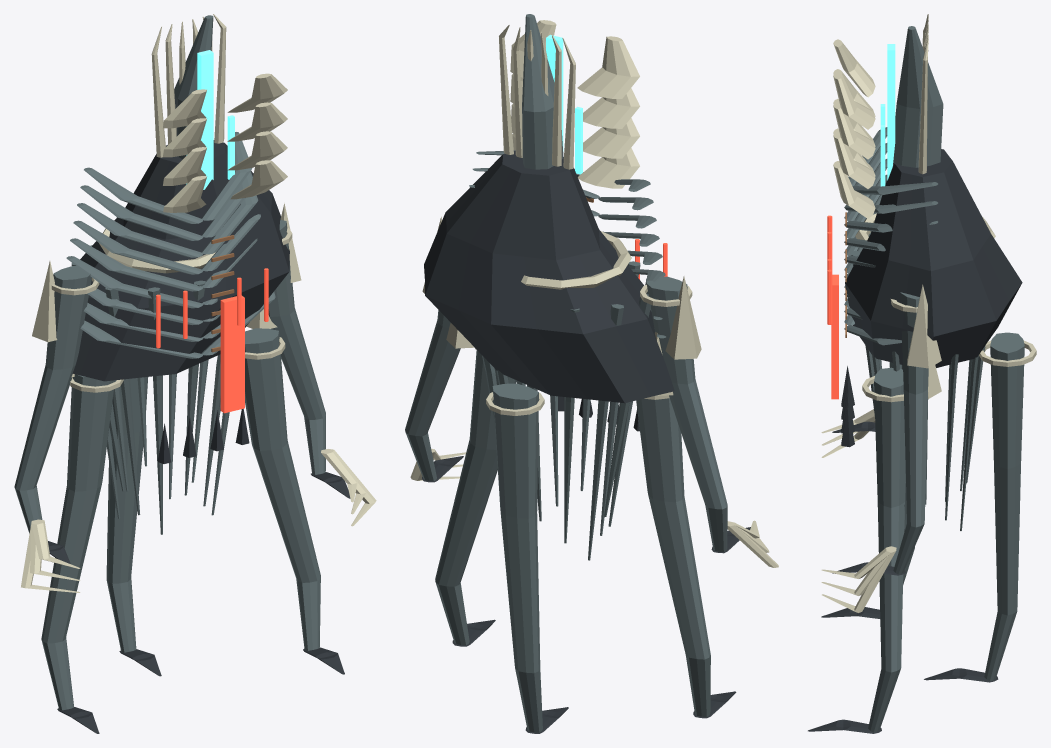
The model's file is unseam.fbx.
3 renders of one model, left to right at view 1: azimuth 30°, elevation 25°; view 2: azimuth 150°, elevation 25°; view 3: azimuth 270°, elevation 25°, orthographic. The views are drawn at different scales.
Visible parts, largest first — view 1: oblique_mantle, leg_1_skin, leg_0_skin, arm_0_skin, leg_2_skin, arm_1_skin, HP_unseam_core, aperture, head_keel, mantle_rib_4_-1, mantle_rib_5_-1, mantle_rib_7_-1 (+32 smaller); view 2: oblique_mantle, leg_2_skin, leg_0_skin, leg_1_skin, arm_0_skin, head_keel, arm_1_skin, face_shutter_-1_3, HP_unseam_shard_0, HP_unseam_collar, face_shutter_-1_1, face_shutter_-1_2 (+13 smaller); view 3: oblique_mantle, leg_2_skin, leg_1_skin, arm_1_skin, head_keel, HP_unseam_shard_1, aperture, face_shutter_1_3, HP_unseam_core, face_shutter_1_1, face_shutter_1_0, face_shutter_1_2 (+17 smaller).
Part boxes in pixels (bbox=[...]): oblique_mantle: bbox=[72, 140, 289, 381]; leg_1_skin: bbox=[245, 328, 320, 650]; leg_0_skin: bbox=[41, 374, 114, 710]; arm_0_skin: bbox=[14, 266, 91, 533]; leg_2_skin: bbox=[106, 377, 148, 652]; arm_1_skin: bbox=[268, 220, 325, 474]; HP_unseam_core: bbox=[220, 295, 244, 413]; aperture: bbox=[197, 50, 213, 189]; head_keel: bbox=[174, 15, 213, 159]; mantle_rib_4_-1: bbox=[70, 238, 202, 291]; mantle_rib_5_-1: bbox=[73, 220, 202, 274]; mantle_rib_7_-1: bbox=[80, 185, 202, 240]; oblique_mantle: bbox=[424, 151, 674, 403]; leg_2_skin: bbox=[492, 383, 542, 732]; leg_0_skin: bbox=[636, 398, 710, 716]; leg_1_skin: bbox=[435, 350, 516, 645]; arm_0_skin: bbox=[646, 276, 727, 551]; head_keel: bbox=[522, 14, 563, 169]; arm_1_skin: bbox=[405, 310, 460, 481]; face_shutter_-1_3: bbox=[577, 36, 639, 98]; HP_unseam_shard_0: bbox=[665, 276, 701, 359]; HP_unseam_collar: bbox=[521, 231, 631, 289]; face_shutter_-1_1: bbox=[583, 118, 639, 158]; face_shutter_-1_2: bbox=[583, 88, 639, 128]; oblique_mantle: bbox=[845, 149, 1022, 367]; leg_2_skin: bbox=[984, 332, 1024, 681]; leg_1_skin: bbox=[868, 367, 905, 732]; arm_1_skin: bbox=[893, 292, 928, 574]; head_keel: bbox=[892, 26, 943, 167]; HP_unseam_shard_1: bbox=[907, 284, 941, 368]; aperture: bbox=[887, 44, 895, 180]; face_shutter_1_3: bbox=[833, 71, 875, 129]; HP_unseam_core: bbox=[831, 274, 838, 399]; face_shutter_1_1: bbox=[833, 131, 875, 188]; face_shutter_1_0: bbox=[833, 161, 875, 218]; face_shutter_1_2: bbox=[833, 101, 875, 159].
Bounding box in the file's own units: 310 × 543 × 168.
